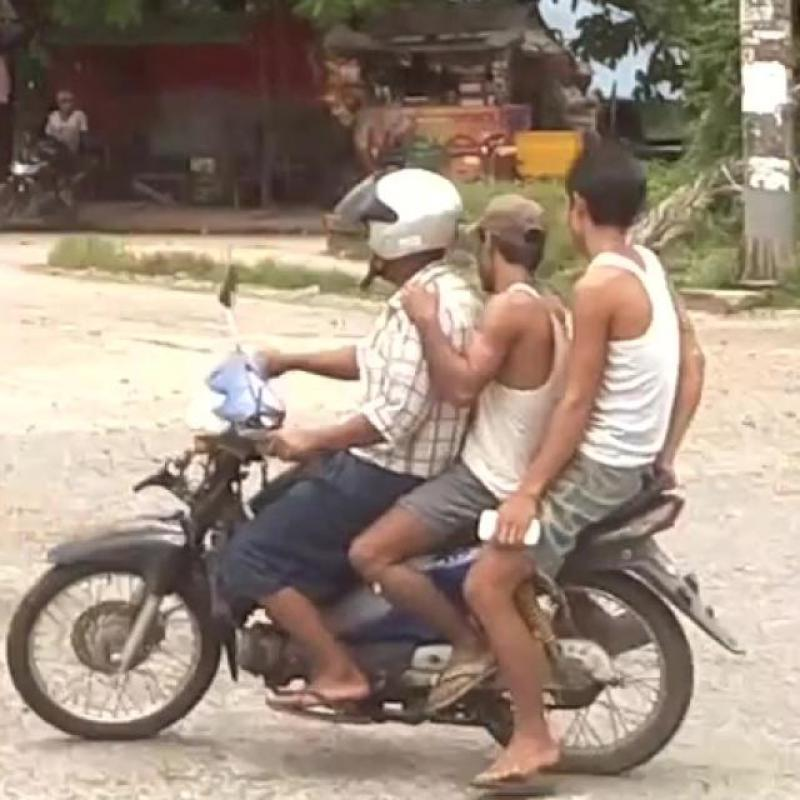nohelmet: (552, 156, 668, 258), (464, 174, 552, 288)
